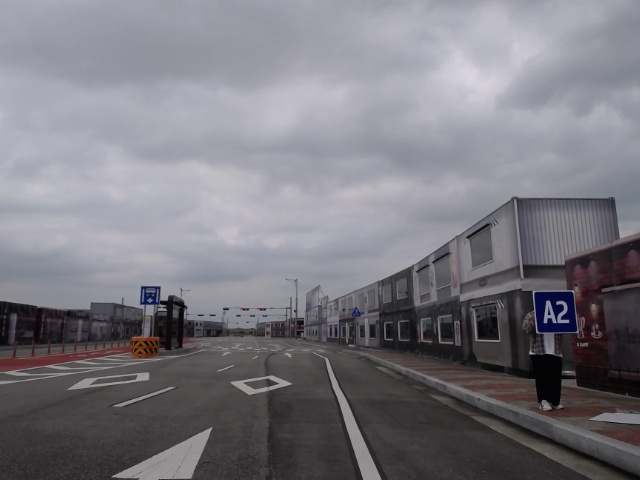delivery_a2: (533, 291, 578, 333)
